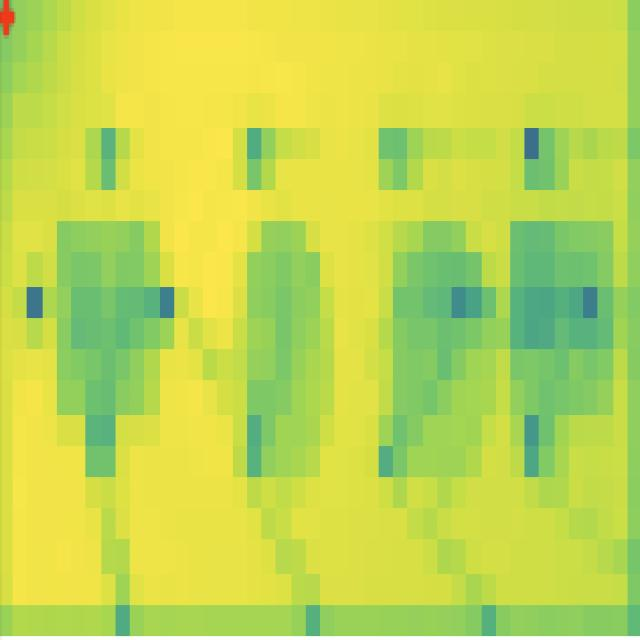Concrete: (235, 223, 332, 483)
Glass: (57, 220, 160, 414)
Metal: (382, 222, 490, 480)
Wood: (510, 223, 612, 419)
